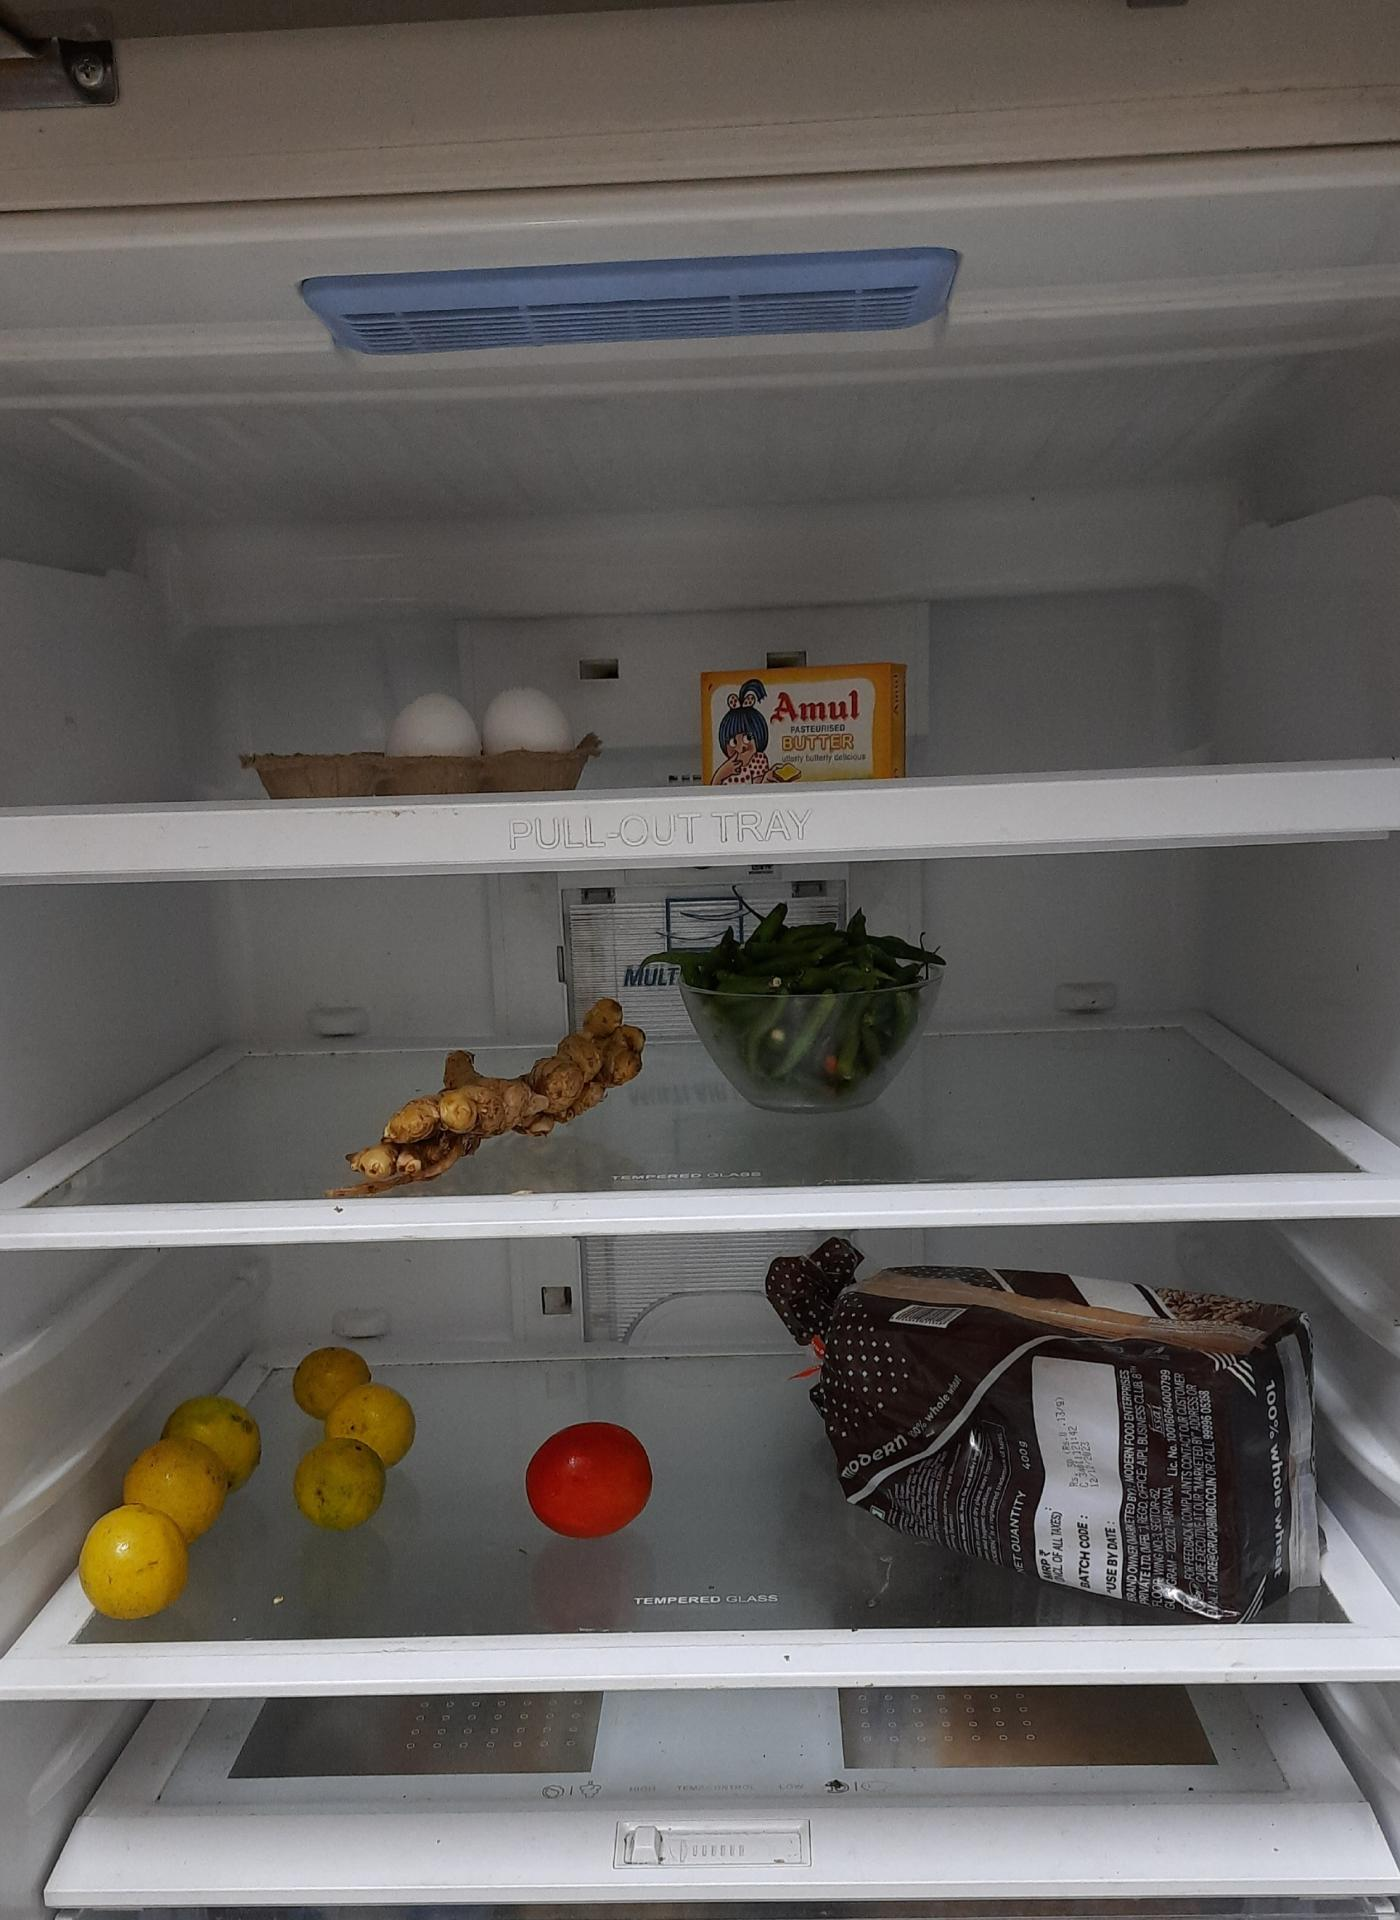bread: (798, 1252, 1327, 1620)
butter: (702, 657, 914, 778)
chillies: (675, 912, 933, 1103)
egg: (385, 686, 580, 778)
ginger: (356, 1021, 647, 1188)
lemon: (81, 1392, 268, 1623), (292, 1343, 419, 1538)
tomato: (523, 1419, 658, 1538)
